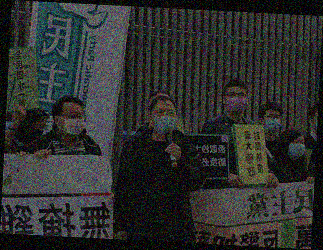with_mask: (151, 106, 178, 137), (58, 108, 84, 135), (225, 88, 247, 115), (263, 111, 282, 133), (27, 121, 46, 143), (288, 137, 305, 161)
